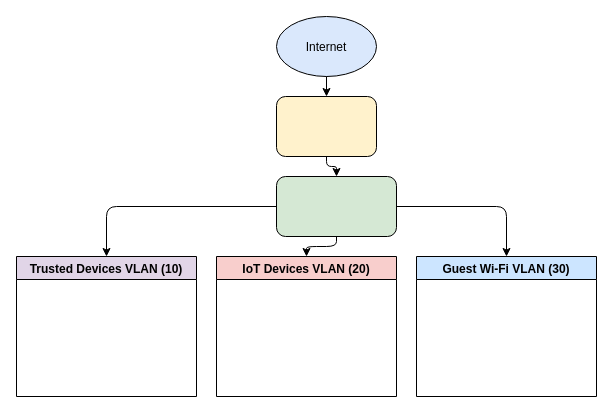
This 613x413 diagram has some shape labels left out. Each missing label, with the box of its shape:
Modem: (276, 96, 376, 156)
Router/Firewall: (276, 176, 396, 236)
